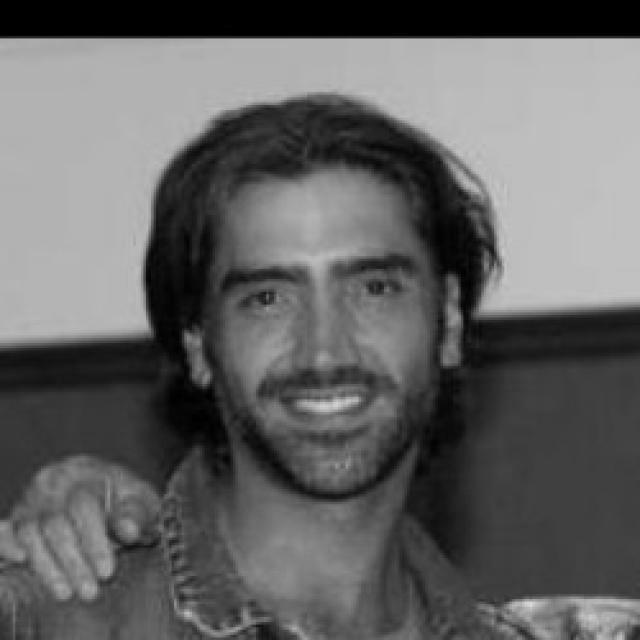real: (206, 164, 439, 496), (225, 269, 414, 315)
